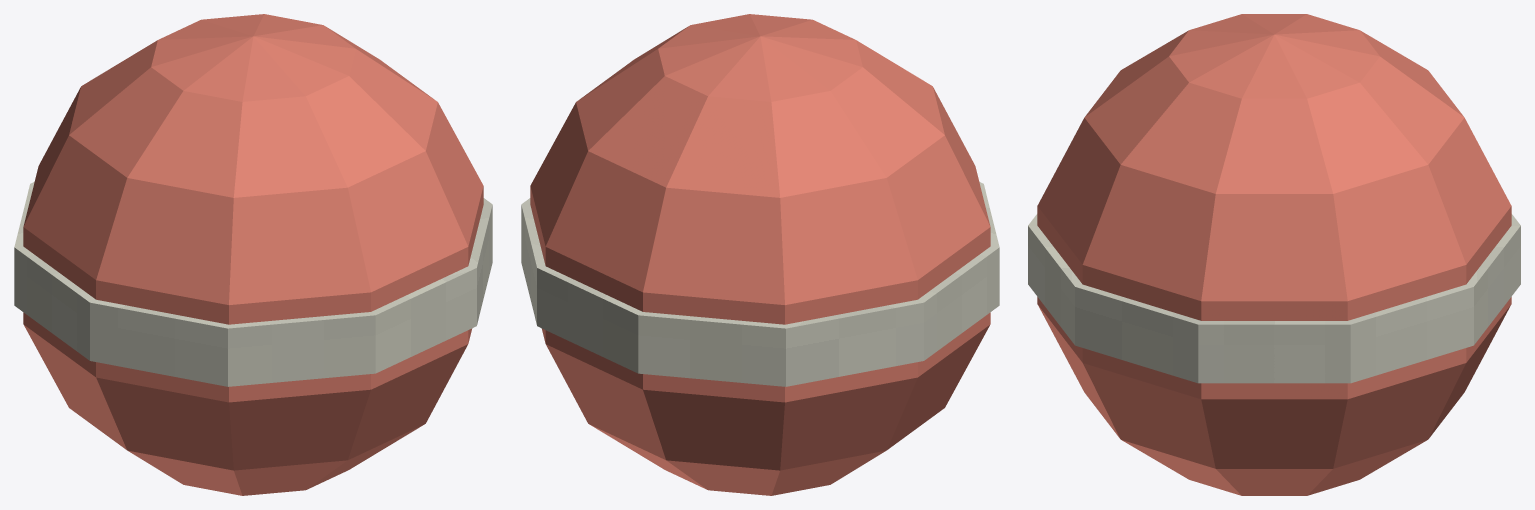
File: ball.glb
The picture shows the model from 3 angles, left to right: view 1: azimuth 30°, elevation 25°; view 2: azimuth 150°, elevation 25°; view 3: azimuth 270°, elevation 25°; orthographic projection.
Parts seen in each view (by area): view 1: ball; view 2: ball; view 3: ball.
Part boxes in pixels (box(x1,y1,x2,y2)): ball: box(14, 14, 492, 495); ball: box(521, 14, 999, 495); ball: box(1028, 14, 1520, 495).
Bounding box in the file's own units: 0.2891 × 0.3 × 0.304.
Materials: 2 (1 with a texture image).
